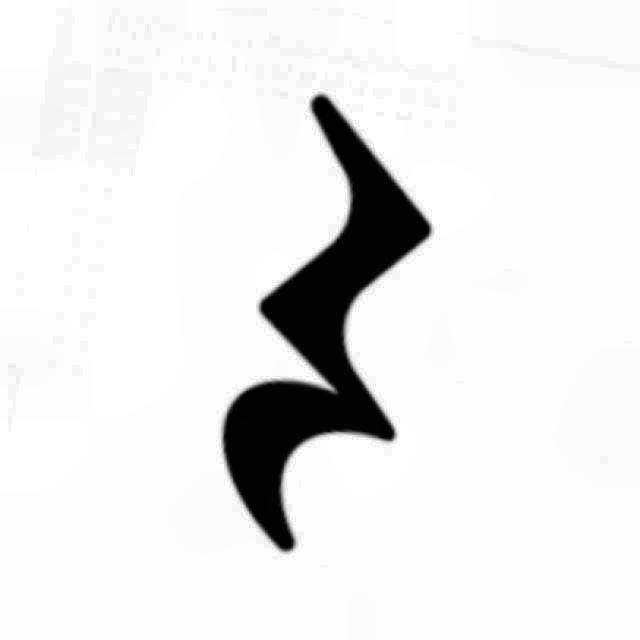Quarter-rest: (212, 78, 442, 560)
